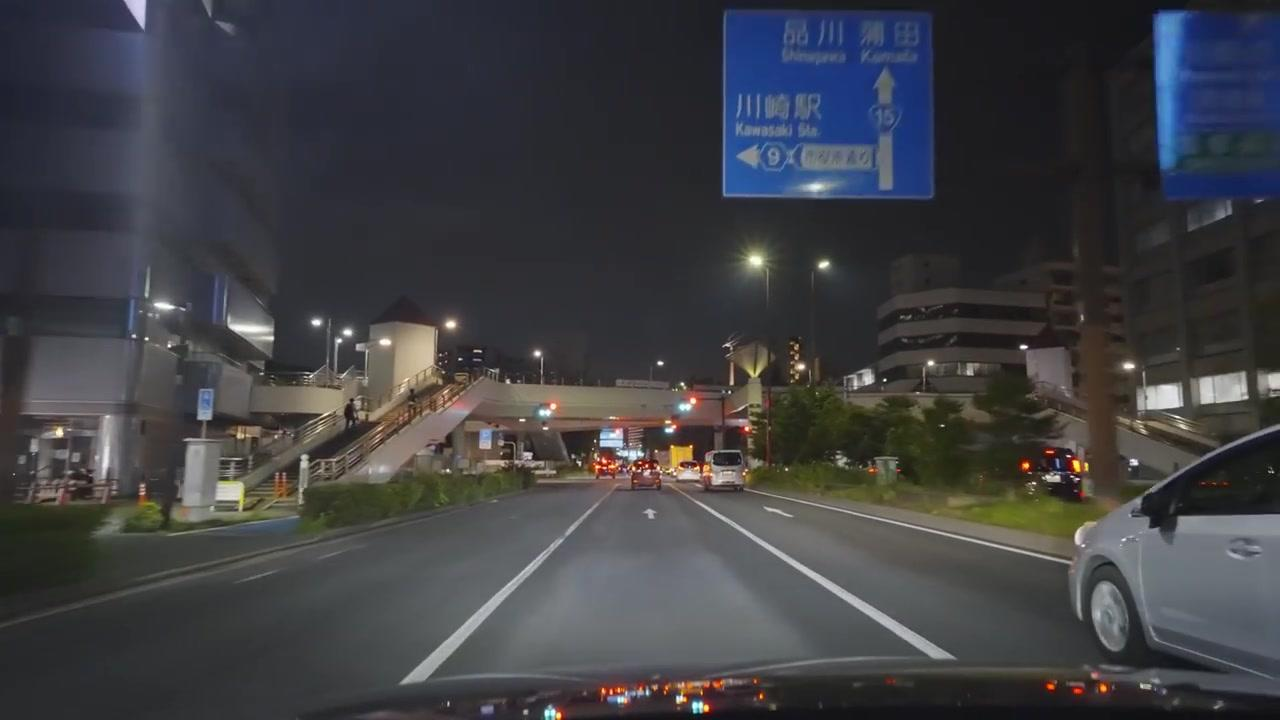car: (1067, 424, 1279, 679), (1020, 443, 1086, 501), (629, 460, 661, 490), (593, 450, 619, 477), (676, 463, 698, 475)
traffic light: (1024, 444, 1085, 501), (682, 394, 696, 412)
truck: (700, 449, 746, 492)
